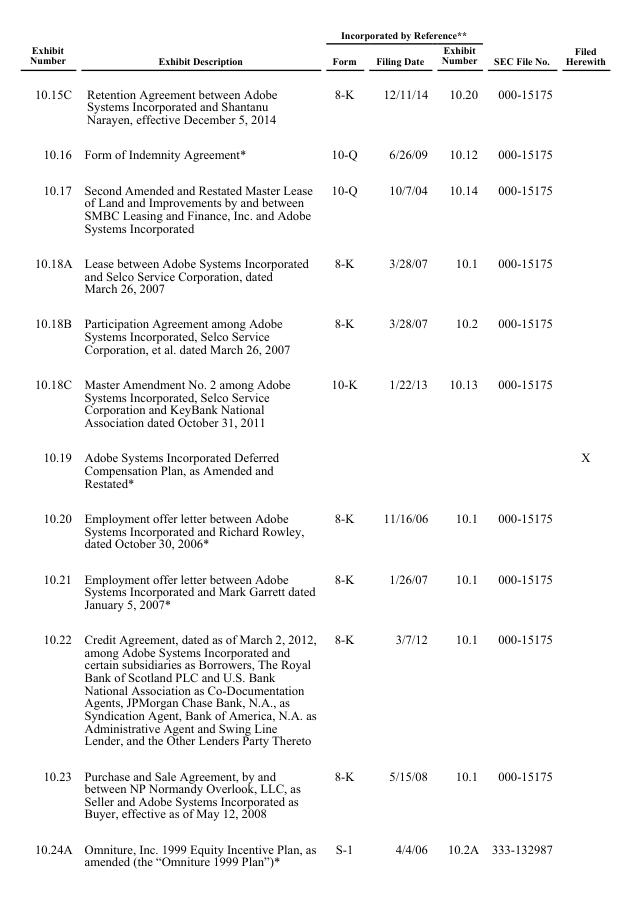table: (29, 28, 604, 868)
table column: (77, 28, 323, 868), (484, 28, 558, 868), (365, 28, 434, 868), (434, 28, 484, 868), (29, 28, 77, 868), (558, 28, 604, 868), (323, 28, 365, 868)
table column header: (29, 28, 604, 76)
table row: (29, 621, 604, 757), (29, 171, 604, 244), (29, 366, 604, 439), (29, 757, 604, 830), (29, 244, 604, 305), (29, 305, 604, 366), (29, 439, 604, 500), (29, 560, 604, 621), (29, 76, 604, 136), (29, 500, 604, 560), (29, 830, 604, 868), (29, 41, 604, 76), (29, 136, 604, 171), (29, 28, 604, 41)
table spanning cell: (77, 28, 323, 76), (484, 28, 558, 76), (29, 28, 77, 76), (558, 28, 604, 76), (323, 28, 484, 41)
